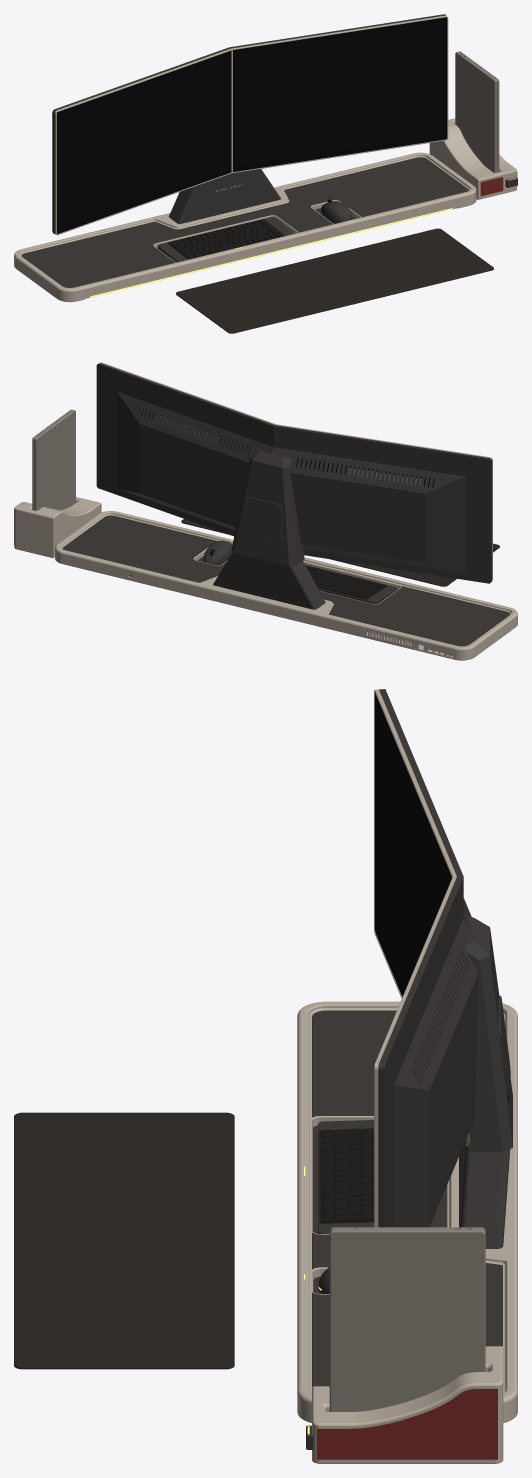
File: station.glb
3 views of the same model, one above another, from view 1: azimuth 30°, elevation 25°; view 2: azimuth 150°, elevation 25°; view 3: azimuth 270°, elevation 25° (orthographic). The views are drawn at different scales.
Visible parts, largest first — view 1: display_screen, deskmat, deck_liner, base_shell, display_glass, laptop_body, neck, dock_cradle, display_frame, keyboard_keys, display_back, base_glow (+2 smaller); view 2: display_back, deck_liner, base_shell, laptop_body, neck, dock_cradle, keyboard_keys, deskmat, display_frame, mouse_shell, display_glass, keyboard_body; view 3: deskmat, display_back, laptop_body, base_shell, display_screen, deck_liner, dock_panels, dock_cradle, keyboard_keys, neck, display_frame, keyboard_body (+1 smaller).
Boxes of the visible parts, <box> form: display_screen: <box>59,20,443,227</box>; deskmat: <box>176,228,493,333</box>; deck_liner: <box>21,157,468,287</box>; base_shell: <box>14,152,476,302</box>; display_glass: <box>57,17,447,233</box>; laptop_body: <box>455,51,499,172</box>; neck: <box>169,169,281,223</box>; dock_cradle: <box>429,118,516,199</box>; display_frame: <box>54,15,448,235</box>; keyboard_keys: <box>167,219,284,259</box>; display_back: <box>52,14,446,233</box>; base_glow: <box>90,208,452,297</box>; display_back: <box>96,363,492,583</box>; deck_liner: <box>62,515,510,646</box>; base_shell: <box>55,511,517,660</box>; laptop_body: <box>32,409,75,510</box>; neck: <box>213,552,325,609</box>; dock_cradle: <box>14,497,101,558</box>; keyboard_keys: <box>305,565,387,599</box>; deskmat: <box>181,519,499,586</box>; display_frame: <box>100,362,492,580</box>; mouse_shell: <box>203,541,232,565</box>; display_glass: <box>137,407,434,487</box>; keyboard_body: <box>315,567,397,603</box>; deskmat: <box>14,1112,234,1369</box>; display_back: <box>378,689,512,1227</box>; laptop_body: <box>329,1227,485,1411</box>; base_shell: <box>297,1001,517,1422</box>; display_screen: <box>376,700,451,991</box>; deck_liner: <box>312,1010,502,1386</box>; dock_panels: <box>317,1388,497,1459</box>; dock_cradle: <box>312,1346,503,1463</box>; keyboard_keys: <box>319,1128,373,1223</box>; neck: <box>459,1134,510,1248</box>; display_frame: <box>374,689,456,1227</box>; keyboard_body: <box>318,1120,373,1233</box>.
Bounding box in the file's own units: 1.41 × 0.5197 × 0.685.
